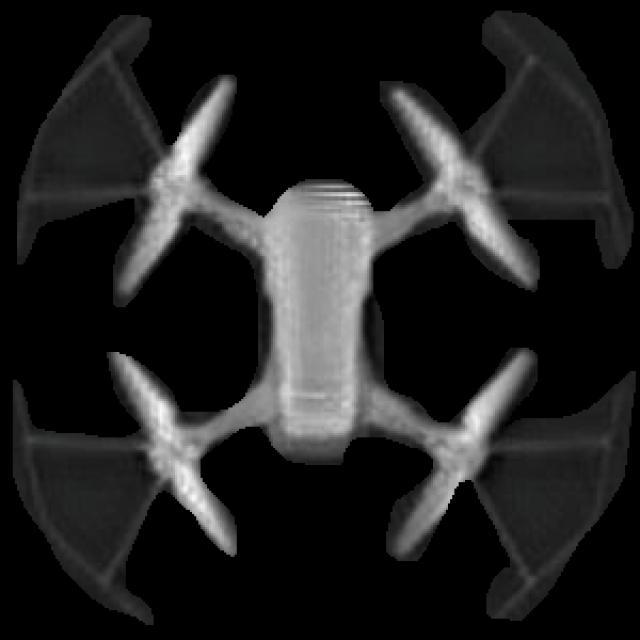drone: (12, 19, 620, 630)
